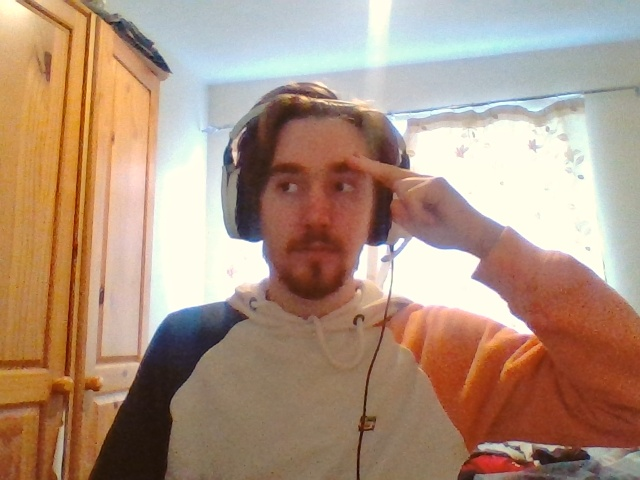name: (344, 151, 445, 232)
